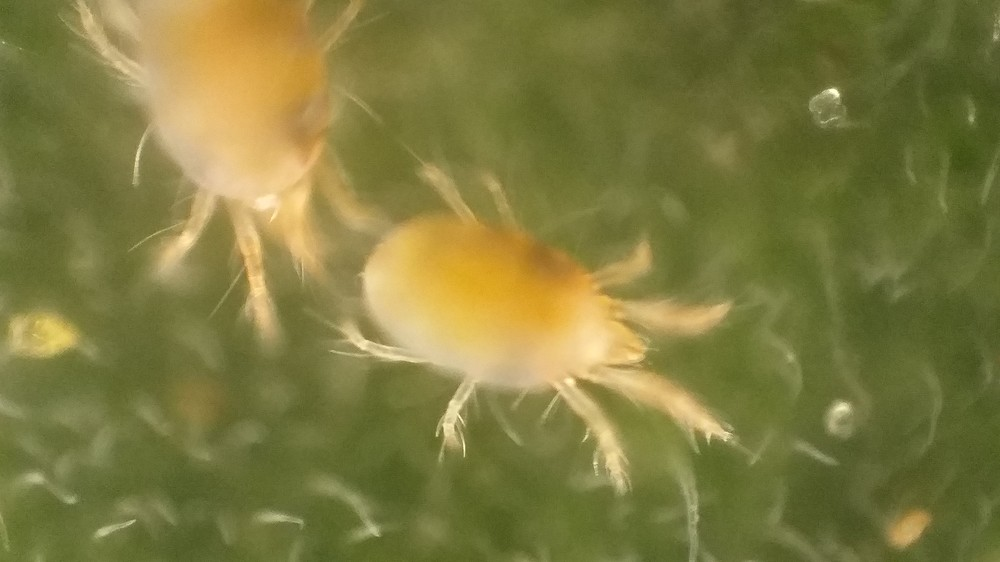Aracnido Rojo: (336, 156, 775, 501), (66, 3, 373, 368)
